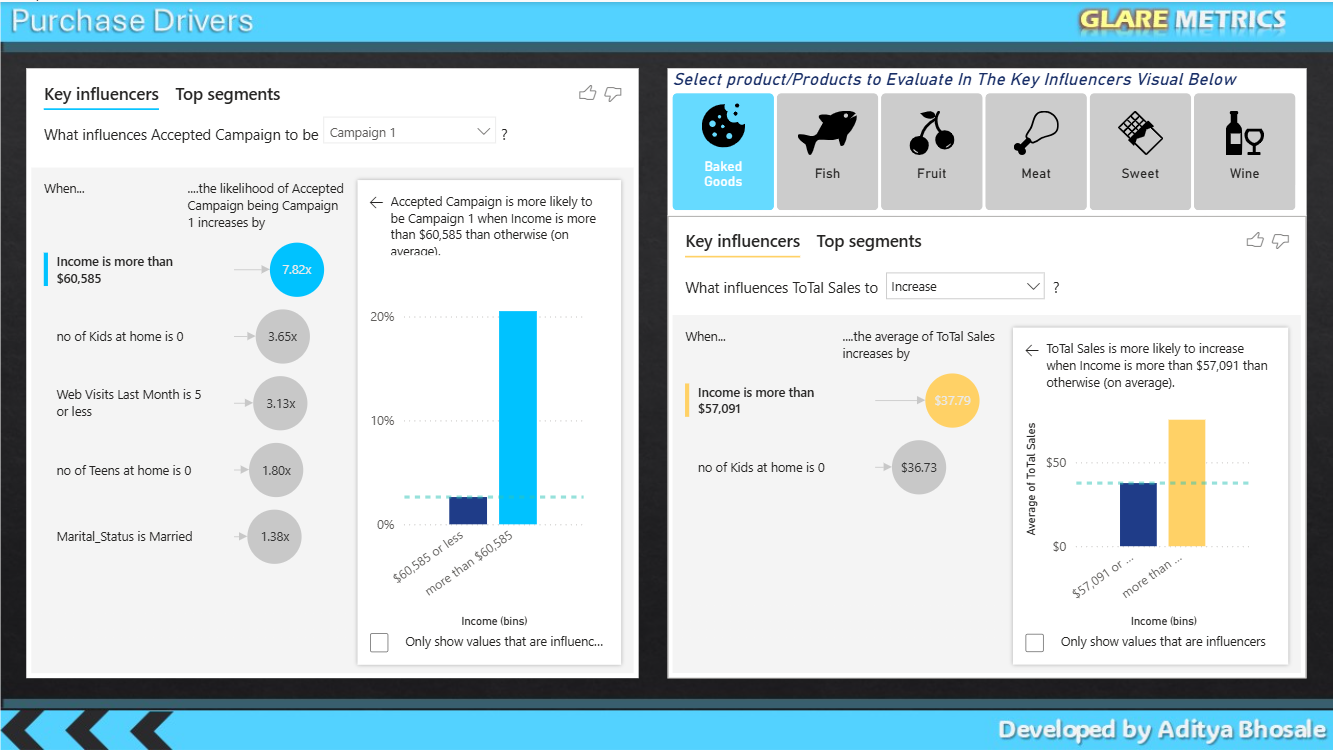

The page's visual inventory and layout, read from the dashboard file:
{"tool":"powerbi","page":{"name":"Purchase Drivers","canvas":[1280,720],"ordinal":2},"visuals":[{"type":"keyDriversVisual","fields":{"ExplainBy":["Marketing Data.Age","Marketing Data. Income ","Marketing Data.Country","Marketing Data.Education","Marketing Data.Kidhome","Marketing Data.Teenhome","Marketing Data.Marital_Status","Marketing Data.Web Visits Last Month"],"Target":["Campaign.Campaign"]},"box":[25.2,63.5,587.3,584.9],"z":0},{"type":"keyDriversVisual","fields":{"ExplainBy":["Marketing Data.Age","Marketing Data. Income ","Marketing Data.Country","Marketing Data.Education","Marketing Data.Kidhome","Marketing Data.Teenhome","Marketing Data.Marital_Status","Marketing Data.Web Visits Last Month"],"Target":["Products.ToTal Sales"]},"box":[640,204.9,612.4,443.4],"z":1000},{"type":"advancedSlicerVisual","title":"Select product/Products to Evaluate In The Key Influencers Visual Below","fields":{"Values":["Products.Product"]},"box":[640,63.5,612.4,141.4],"z":2000}]}

Visuals, with their boxes in screenshot pixels (x1, y1, x2, y2), scaled from the page's 1280x720 canvas onto the 1333x751 screenshot:
keyDriversVisual - Marketing Data.Age x Marketing Data. Income : <box>26,66,638,676</box>
keyDriversVisual - Marketing Data.Age x Marketing Data. Income : <box>666,214,1304,676</box>
"Select product/Products to Evaluate In The Key Influencers Visual Below" advancedSlicerVisual: <box>666,66,1304,214</box>
